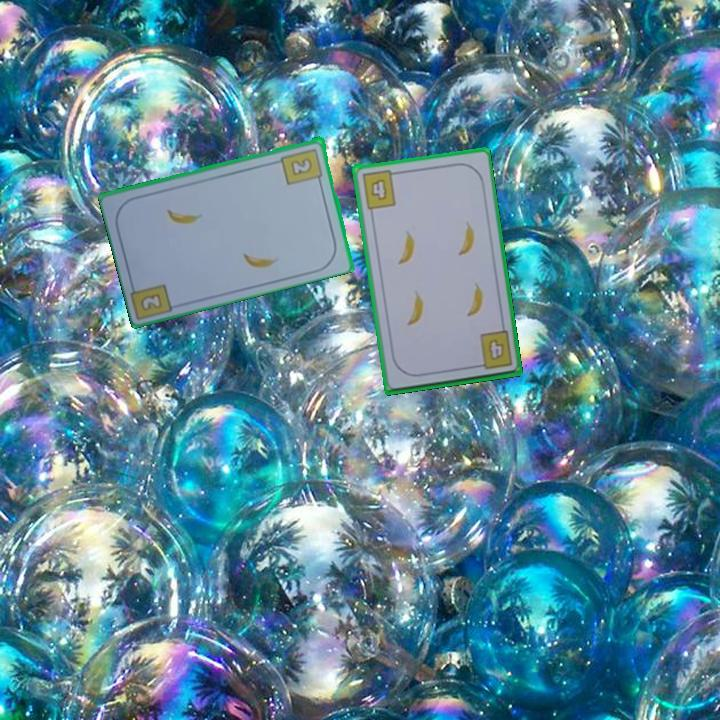2b: (278, 144, 326, 188), (139, 292, 163, 312)
4b: (358, 166, 401, 211), (485, 335, 507, 363)
